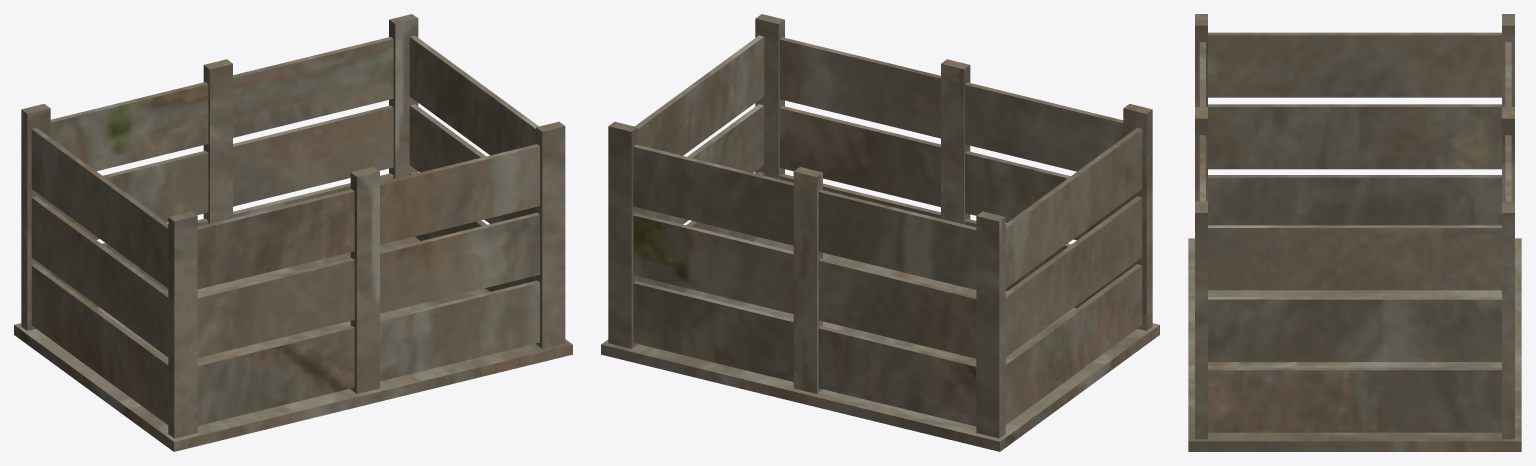
File: tinycrate.fbx
The picture shows the model from 3 angles, left to right: view 1: azimuth 30°, elevation 25°; view 2: azimuth 150°, elevation 25°; view 3: azimuth 270°, elevation 25°; orthographic projection. The views are drawn at different scales.
Parts seen in each view (by area): view 1: Cube.373; view 2: Cube.373; view 3: Cube.373.
Boxes of the visible parts, bbox=[...] form: Cube.373: bbox=[14, 14, 572, 451]; Cube.373: bbox=[601, 14, 1159, 451]; Cube.373: bbox=[1188, 14, 1521, 451].
Size of the model in its own units: 55.62 by 30.25 by 38.61.
